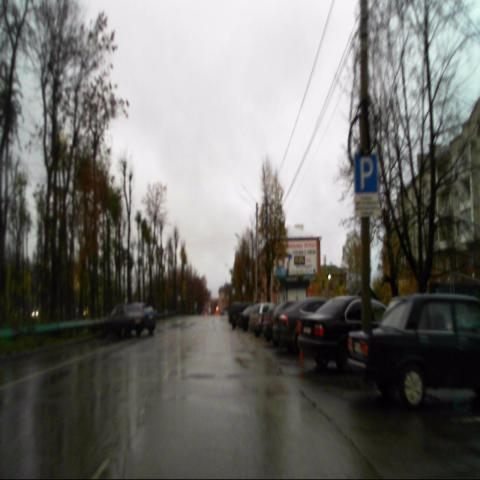6_4: (354, 154, 377, 194)
